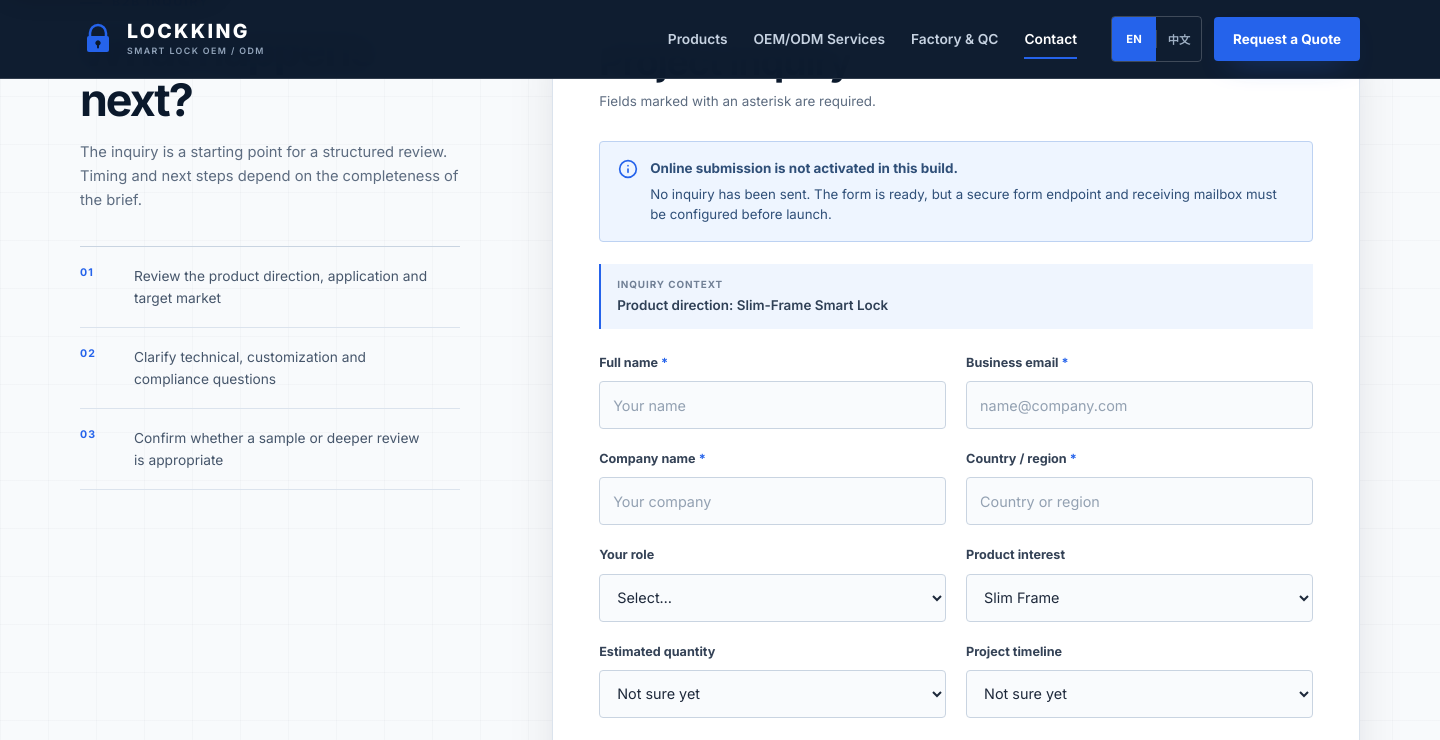
Scenario: inquiry form submission states › shows a retryable error when the adapter fails
(page scrolled)
In the field labelled "Full name *": (773, 405) [599, 381, 946, 429], type "Alex Morgan"
In the field labelled "Business email *": (1140, 405) [966, 381, 1313, 429], type "alex@example.com"
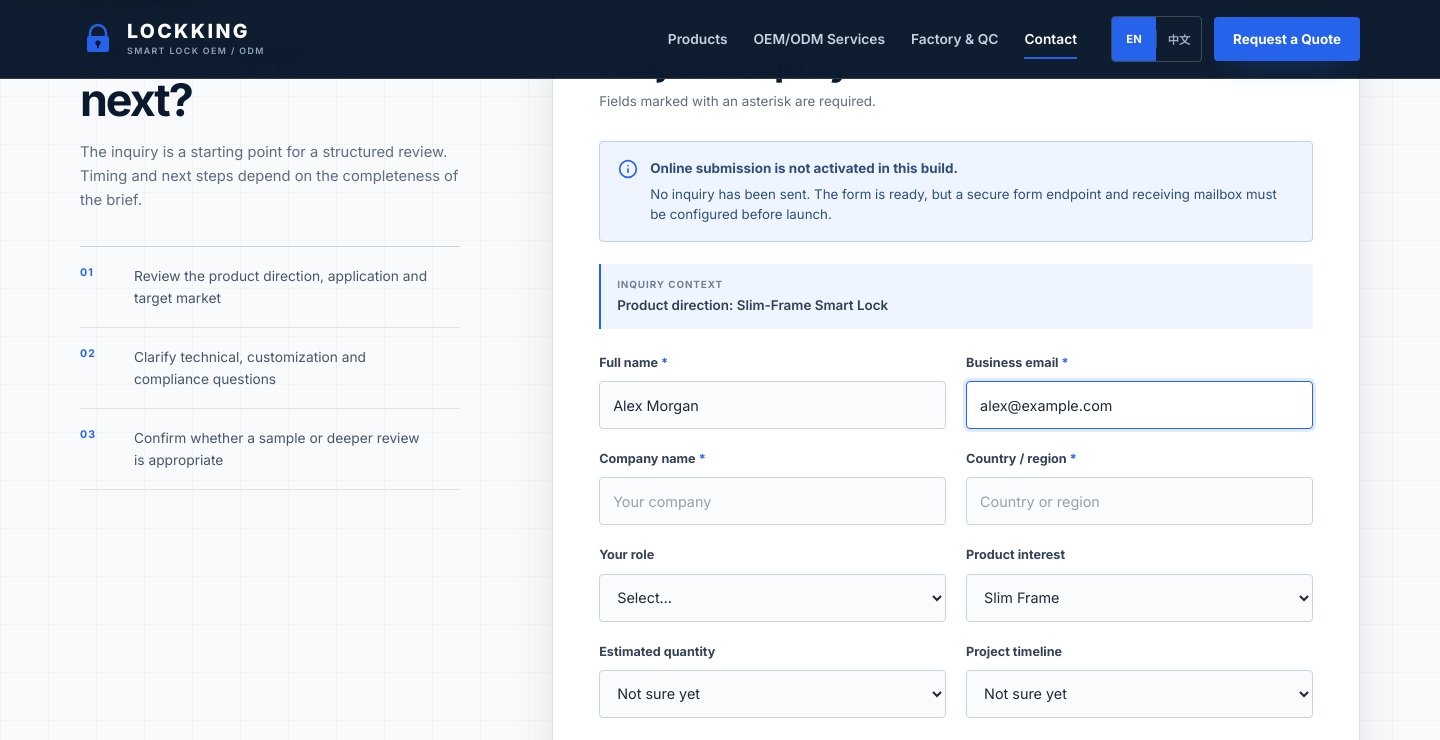
In the field labelled "Company name *": (773, 502) [599, 478, 946, 526], type "Example Brand"
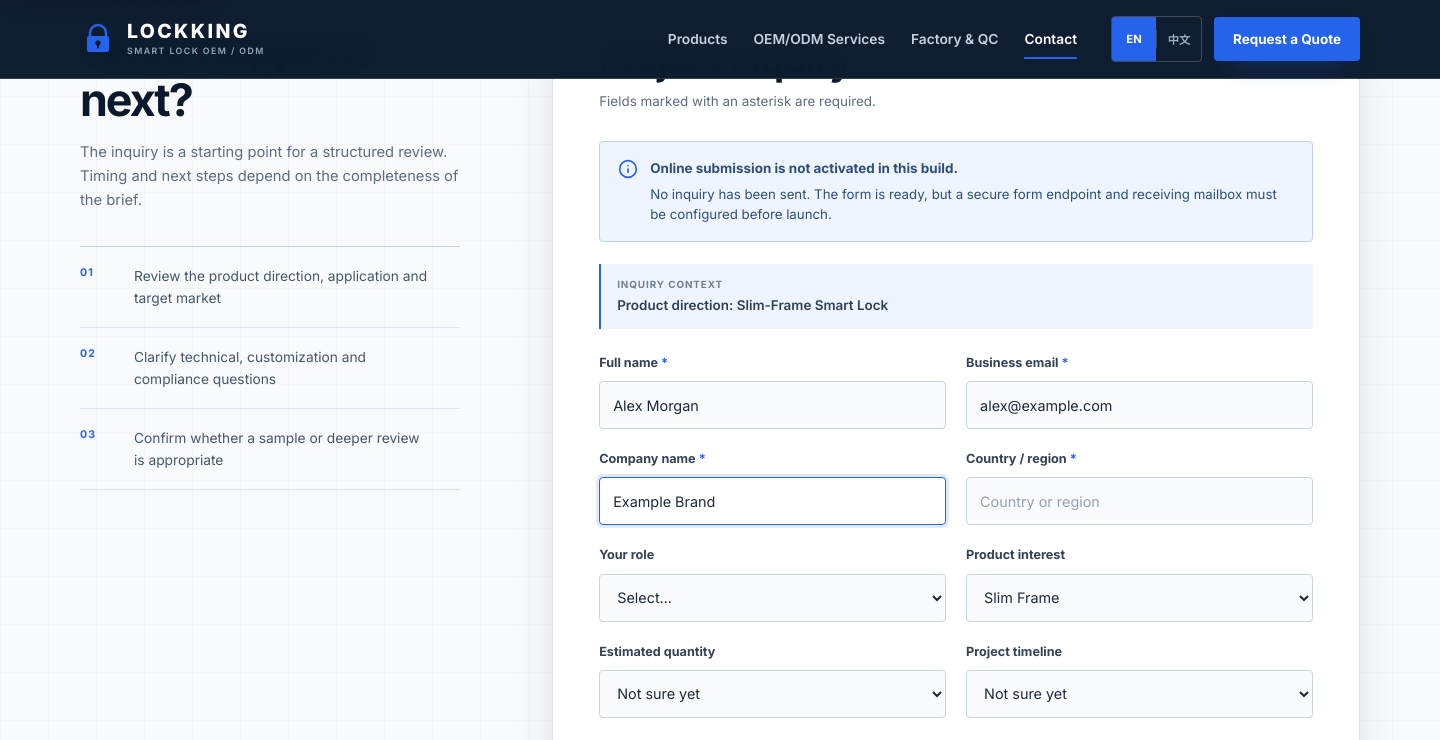
In the field labelled "Country / region *": (1140, 502) [966, 478, 1313, 526], type "Germany"
(page scrolled)
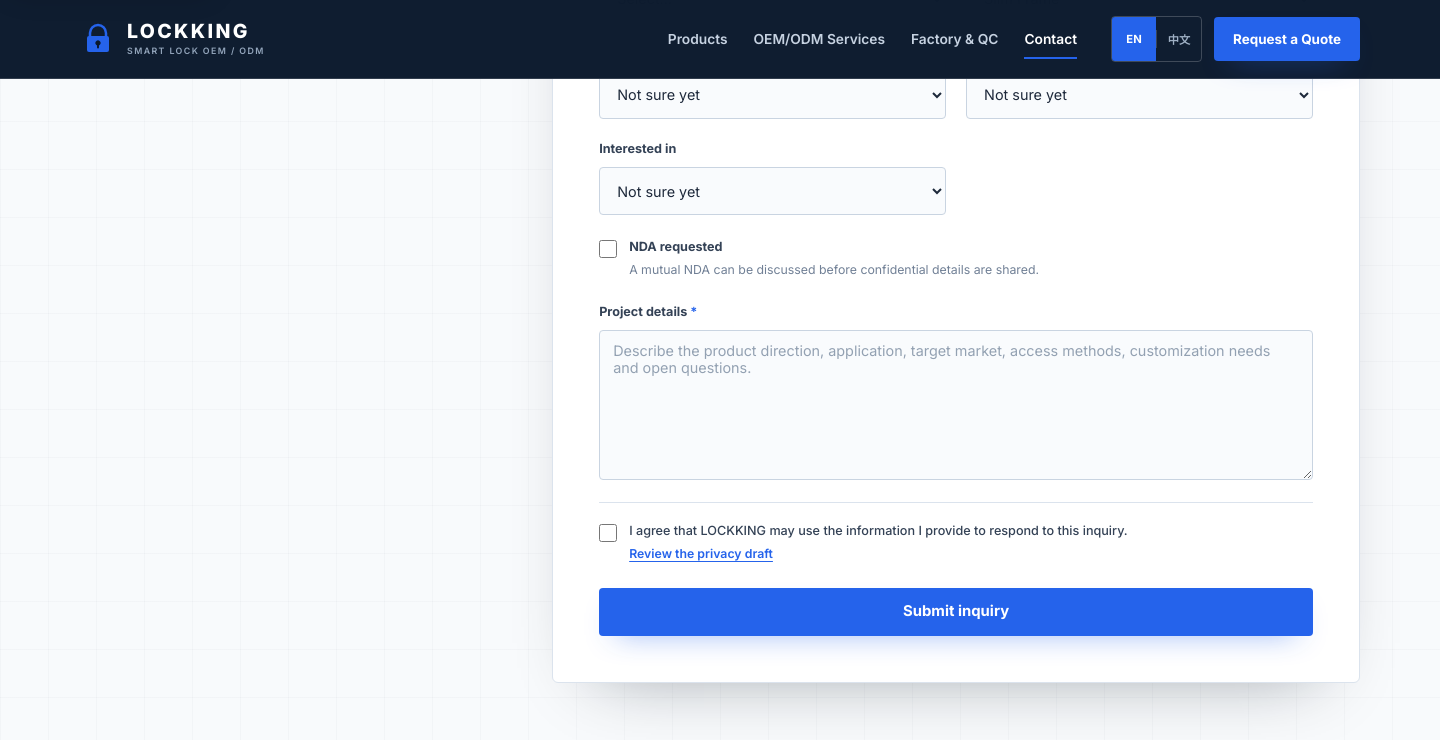
In the text box labelled "Project details *": (956, 405) [599, 330, 1313, 480], type "We are evaluating a slim-frame smart lock for a residential project in Germany."
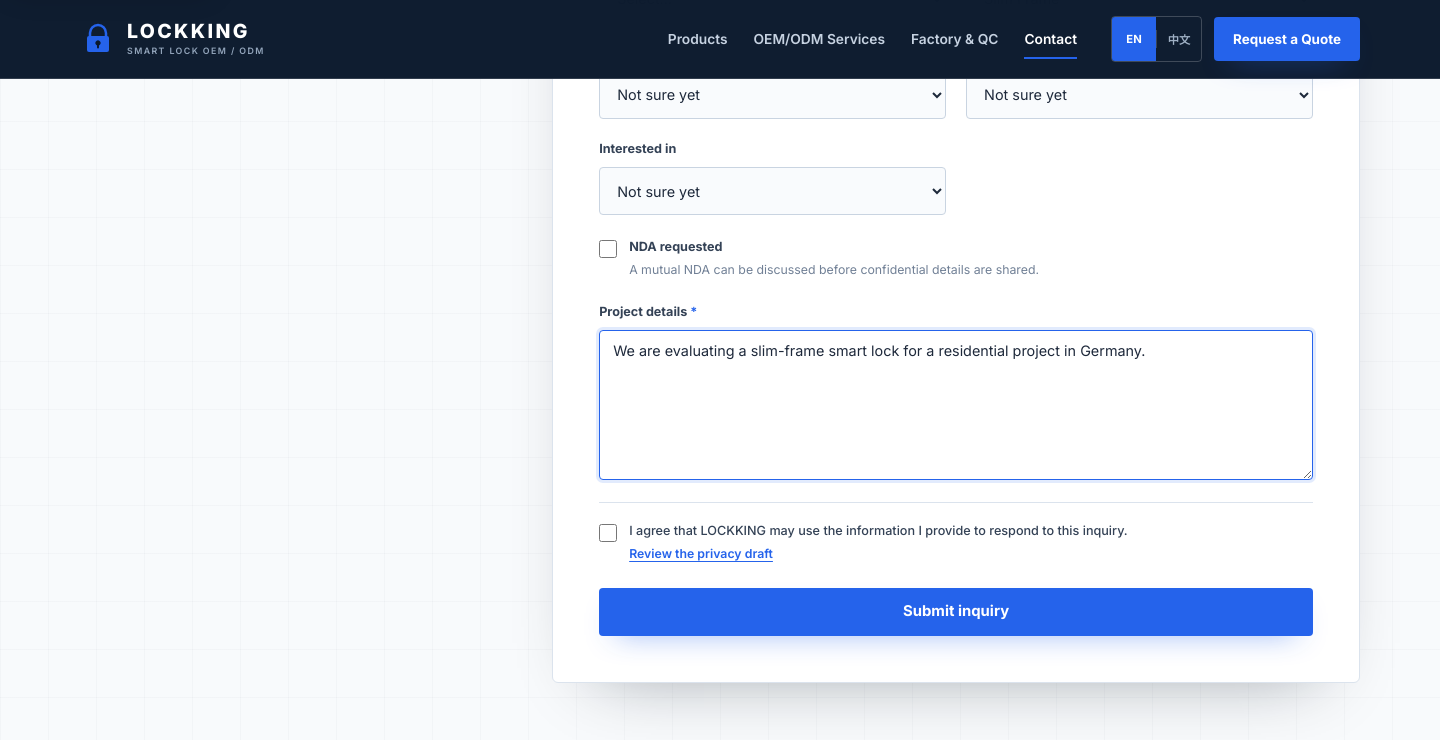
Click the checkbox labelled "I agree that LOCKKING": (608, 533) [599, 524, 617, 542]
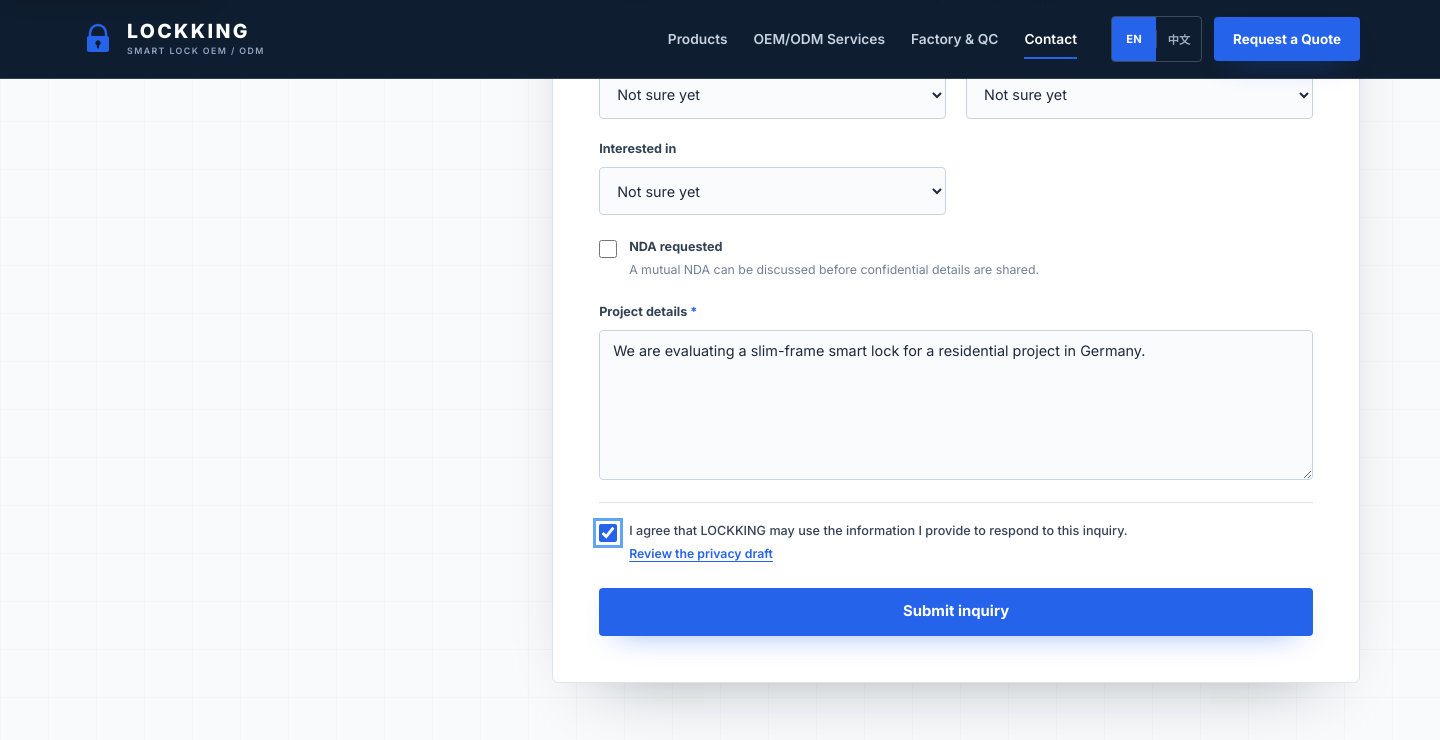
Click the button "Submit inquiry": (956, 612) [599, 588, 1313, 636]
(page scrolled)
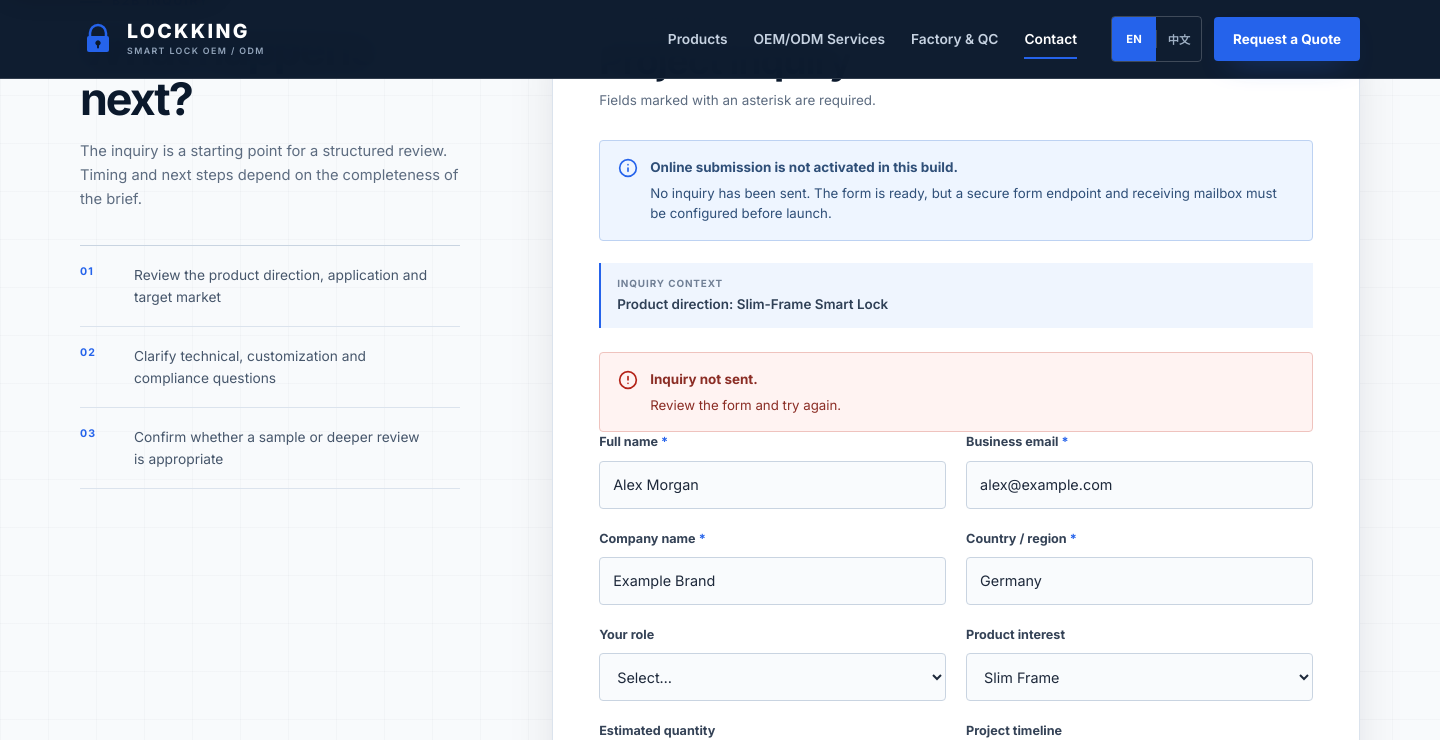
Result: the text "Inquiry not sent." is shown at [650, 371, 758, 387]
Result: the text "Review the form and try again." is shown at [650, 395, 841, 416]
